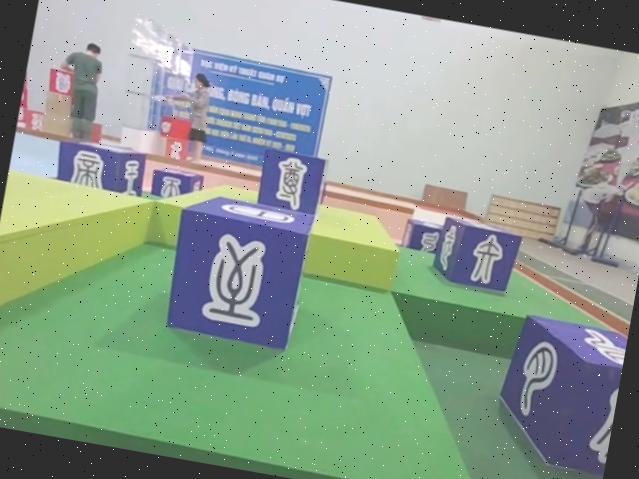R2 Fake Blue: (157, 188, 317, 355), (487, 312, 627, 479), (433, 214, 526, 294), (51, 136, 147, 197), (255, 145, 330, 216), (147, 165, 202, 203), (401, 216, 446, 254)
